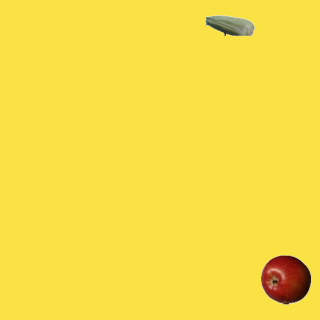Apple Braeburn: (260, 254, 310, 304)
Corn Husk: (204, 0, 254, 50)
